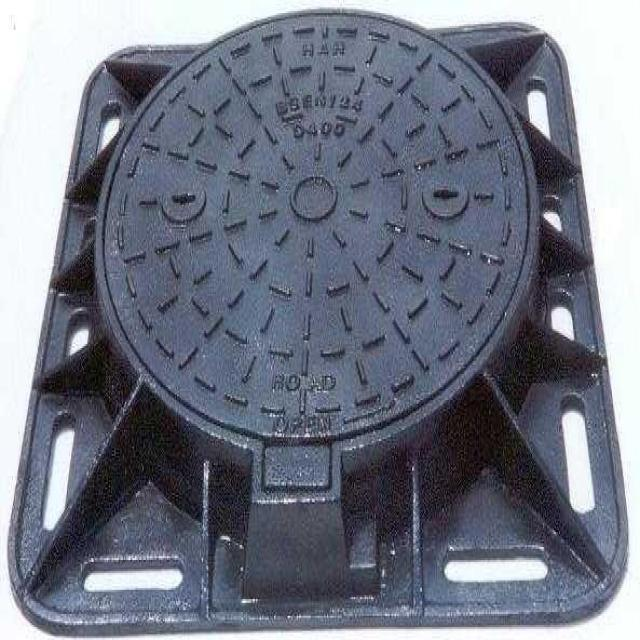manhole: (8, 9, 628, 640)
